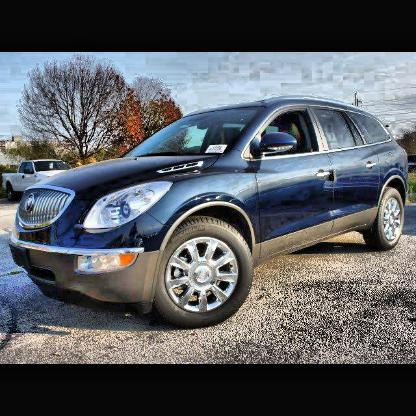Buick Enclave SUV 2012: (10, 97, 409, 329)
